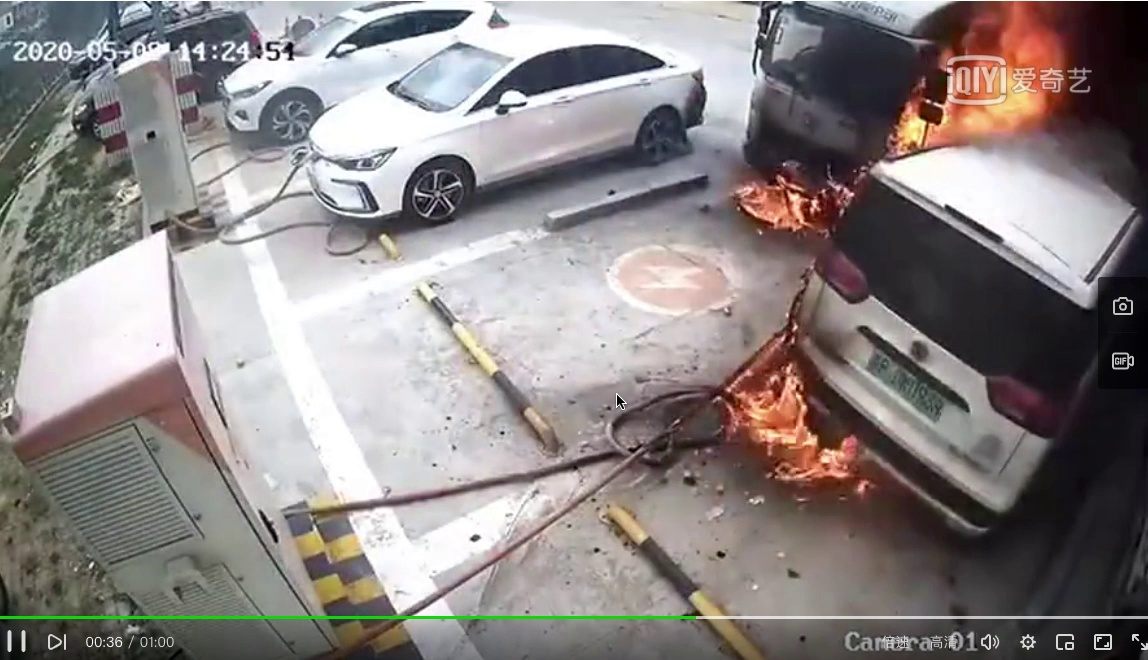fire: (927, 24, 1080, 136), (735, 364, 848, 501)
